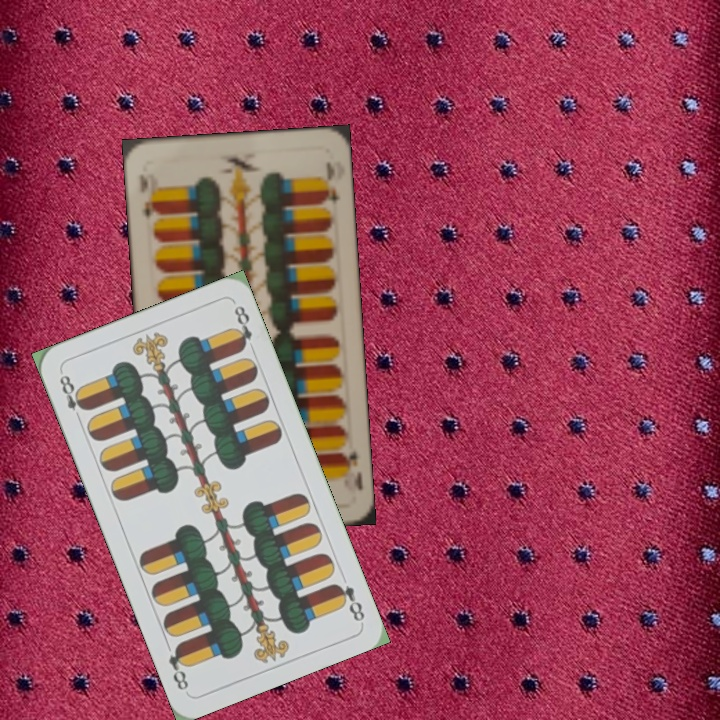E10: (336, 447, 365, 493), (136, 170, 161, 220)
E8: (55, 371, 90, 425), (329, 579, 367, 624)
